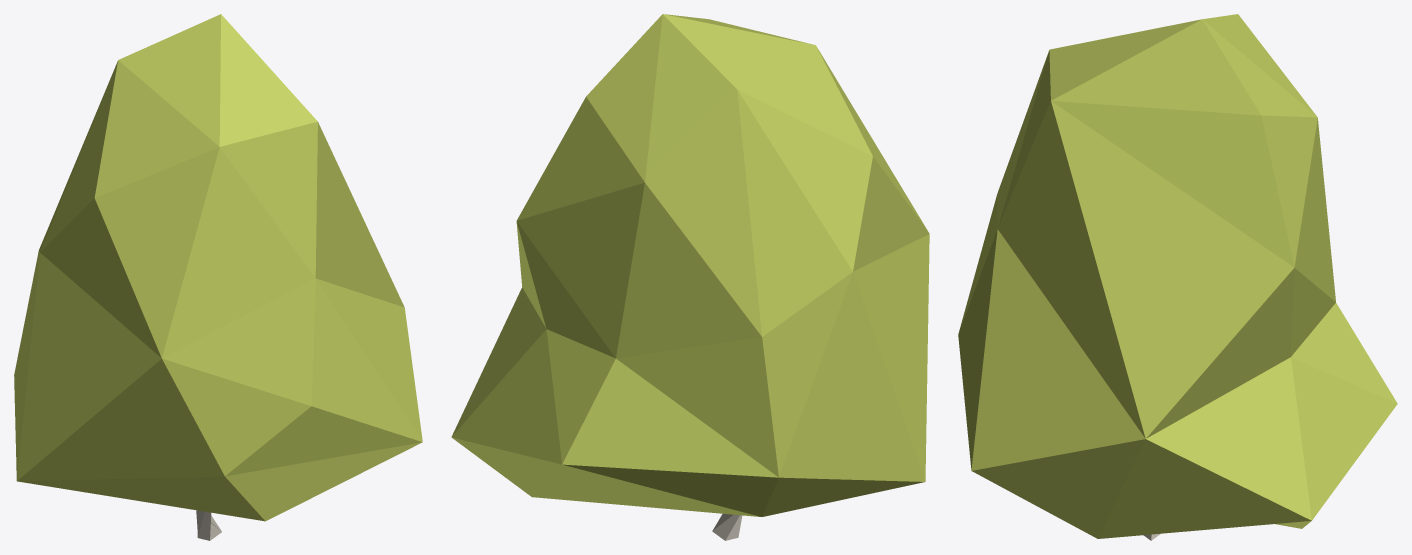
The model's file is AcerSaccharum.glb.
The picture shows the model from 3 angles, left to right: view 1: azimuth 30°, elevation 25°; view 2: azimuth 150°, elevation 25°; view 3: azimuth 270°, elevation 25°; orthographic projection. The views are drawn at different scales.
Parts seen in each view (by area): view 1: Crown, Trunk; view 2: Crown, Trunk; view 3: Crown.
Boxes of the visible parts, x1,y1,x2,y2 form: Crown: [14, 14, 422, 521]; Trunk: [196, 510, 221, 540]; Crown: [451, 14, 929, 516]; Trunk: [712, 513, 742, 540]; Crown: [958, 14, 1397, 538].
Bounding box in the file's own units: 12.45 × 15.4 × 11.5.
